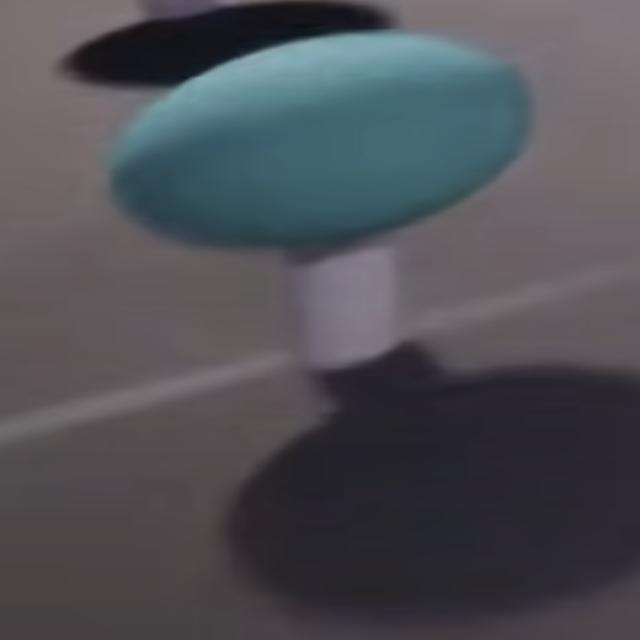Algae: (108, 33, 532, 254)
Coral: (297, 231, 392, 372), (142, 0, 223, 17)
